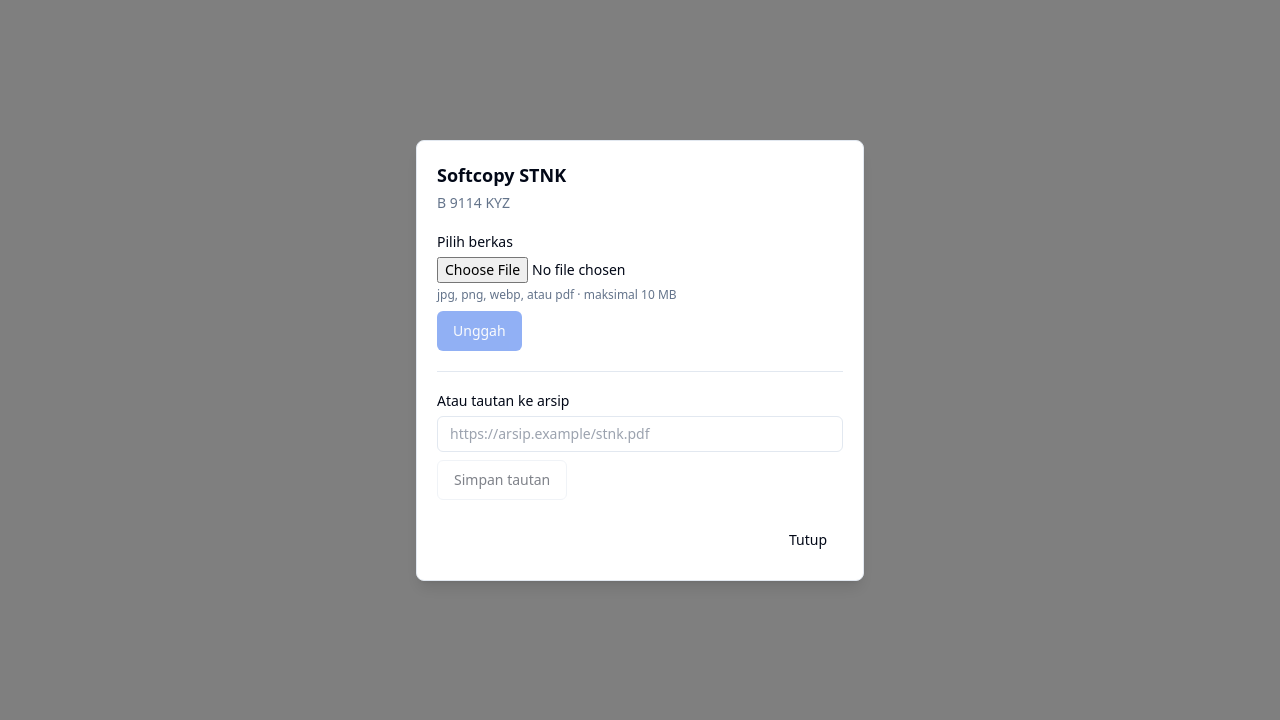
BerkasUploadDialog › refuses a link that is not http or https
The image size is (1280, 720).
Type "javascript:alert(1)" into the field labelled "Atau tautan ke arsip". click: point(640, 434)
box: [437,416,843,452]
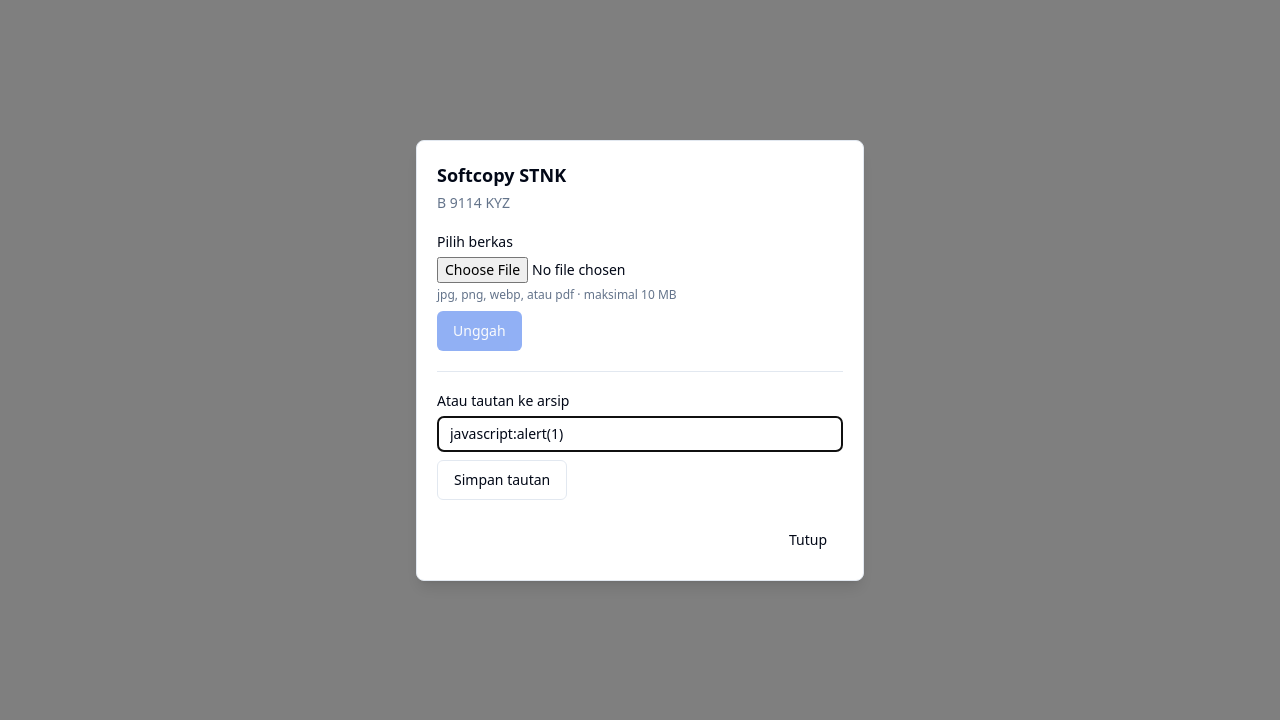
Click the button "Simpan tautan". click: point(502, 480)
box: [437,460,567,500]
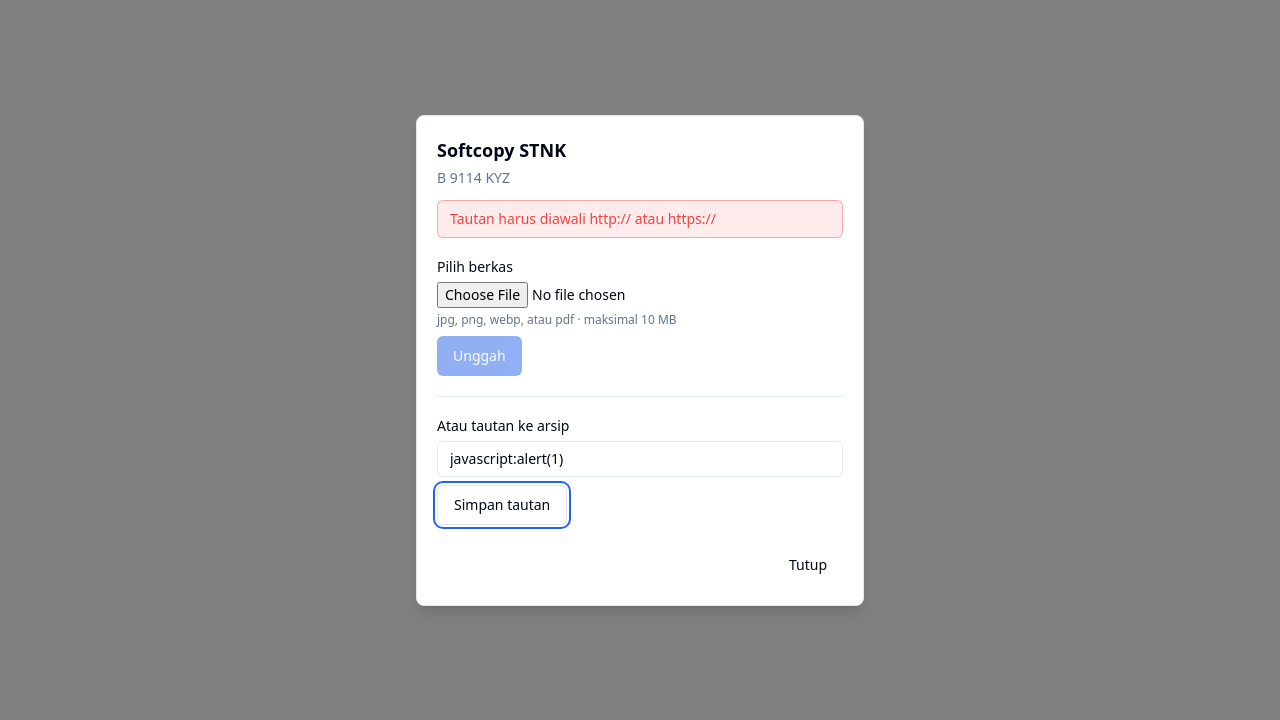
Now the text "Tautan harus diawali http:// atau https://" is shown, box [437,200,843,238]
